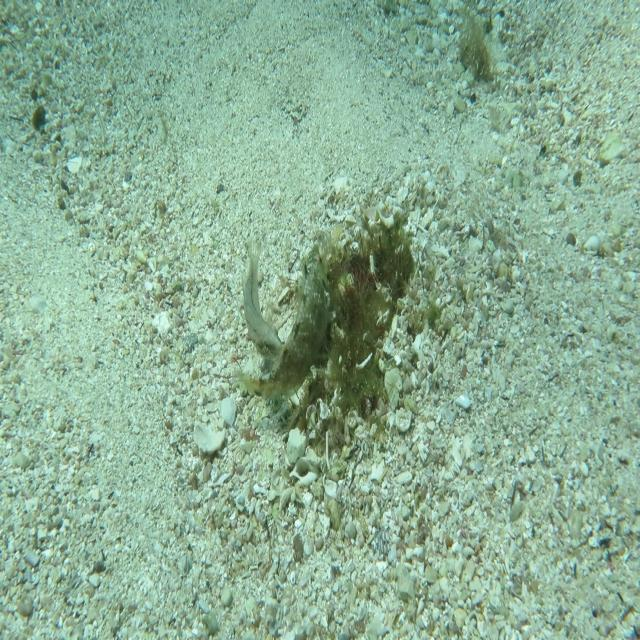DAN_CIRC: (237, 243, 332, 403)
core_nest: (342, 220, 396, 276)
female: (242, 234, 287, 358)
nest: (267, 174, 427, 440)
